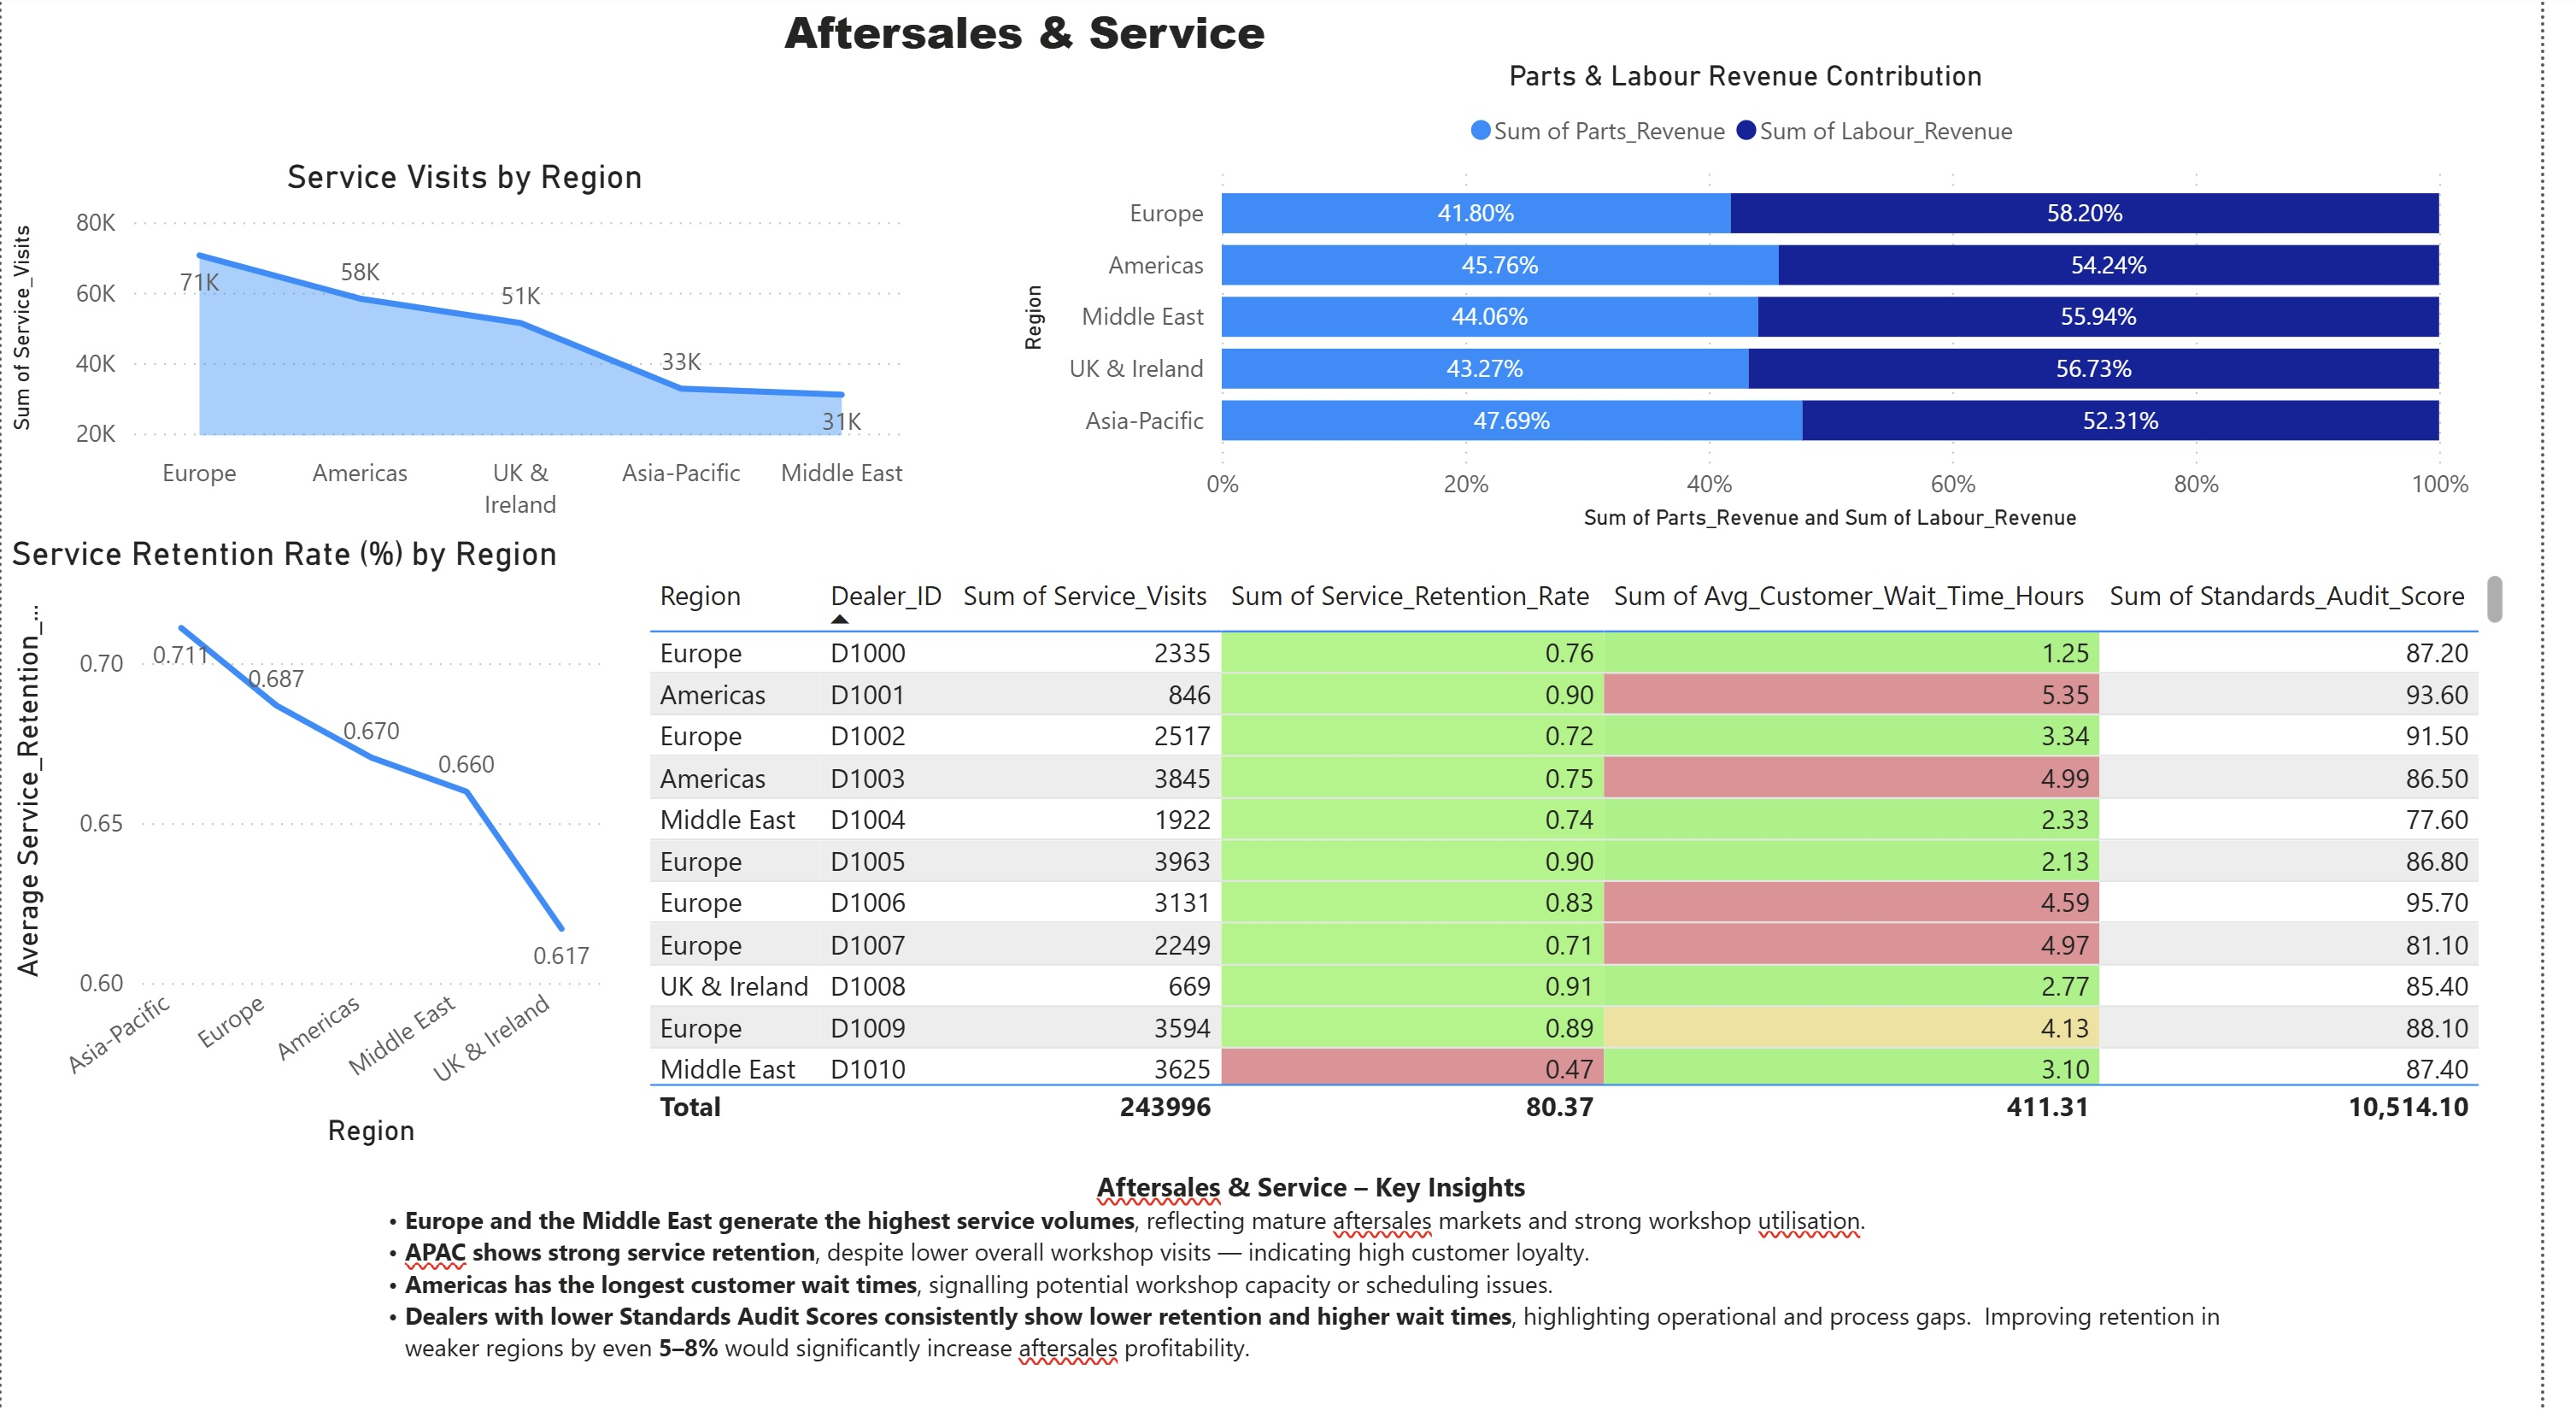

The page's visual inventory and layout, read from the dashboard file:
{"tool":"powerbi","page":{"name":"Aftersales & Service","canvas":[1280,720],"ordinal":2},"visuals":[{"type":"areaChart","title":"Service Visits by Region","fields":{"Category":["dealer_kpis_luxury.Region"],"Y":["Sum(dealer_kpis_luxury.Service_Visits)"]},"box":[0,83.1,467,190.5],"z":0},{"type":"hundredPercentStackedBarChart","title":"Parts & Labour Revenue Contribution","fields":{"Y":["Sum(dealer_kpis_luxury.Parts_Revenue)","Sum(dealer_kpis_luxury.Labour_Revenue)"],"Category":["dealer_kpis_luxury.Region"]},"box":[510,34.4,739.2,242.1],"z":1000},{"type":"lineChart","title":"Service Retention Rate (%) by Region","fields":{"Y":["dealer_kpis_luxury.Average Service_Retention_Rate"],"Category":["dealer_kpis_luxury.Region"]},"box":[0,273.3,306.6,314],"z":2000},{"type":"tableEx","fields":{"Values":["dealer_kpis_luxury.Region","dealer_kpis_luxury.Dealer_ID","Sum(dealer_kpis_luxury.Service_Visits)","Sum(dealer_kpis_luxury.Service_Retention_Rate)","Sum(dealer_kpis_luxury.Avg_Customer_Wait_Time_Hours)","Sum(dealer_kpis_luxury.Standards_Audit_Score)"]},"box":[320.5,288.9,945.8,287.8],"z":3000},{"type":"textbox","box":[180.5,588.8,959.8,131.8],"z":4000},{"type":"textbox","box":[389.6,0,540.1,40.1],"z":4001}]}

Visuals, with their boxes in screenshot pixels (x1, y1, x2, y2), scaled from the page's 1280x720 canvas onto the 2576x1411 screenshot:
"Service Visits by Region" areaChart: [0,163,940,536]
"Parts & Labour Revenue Contribution" hundredPercentStackedBarChart: [1026,68,2514,542]
"Service Retention Rate (%) by Region" lineChart: [0,536,617,1151]
tableEx - dealer_kpis_luxury.Region x dealer_kpis_luxury.Dealer_ID: [645,566,2549,1130]
textbox: [363,1154,2295,1410]
textbox: [784,0,1871,79]
